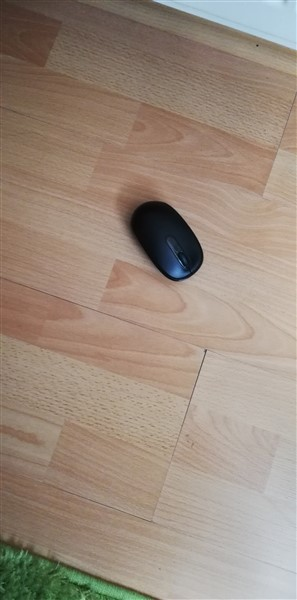mouse: (128, 196, 207, 285)
